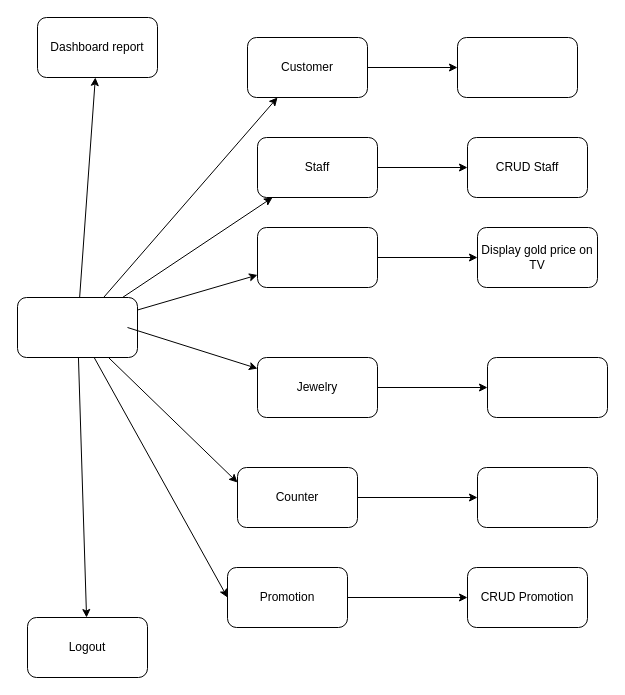
Image size: 625x695. Some labels were removed from this diagram. The shapes that lost their labels are listed below. From the top down, each one's centre as x and y in pixels, then its label:
At (517,67): "CRUD Customer".
At (317,257): "Gold Price".
At (77,327): "Login User".
At (547,387): "CRUD Jewelry".
At (537,497): "CRUD Counter".
